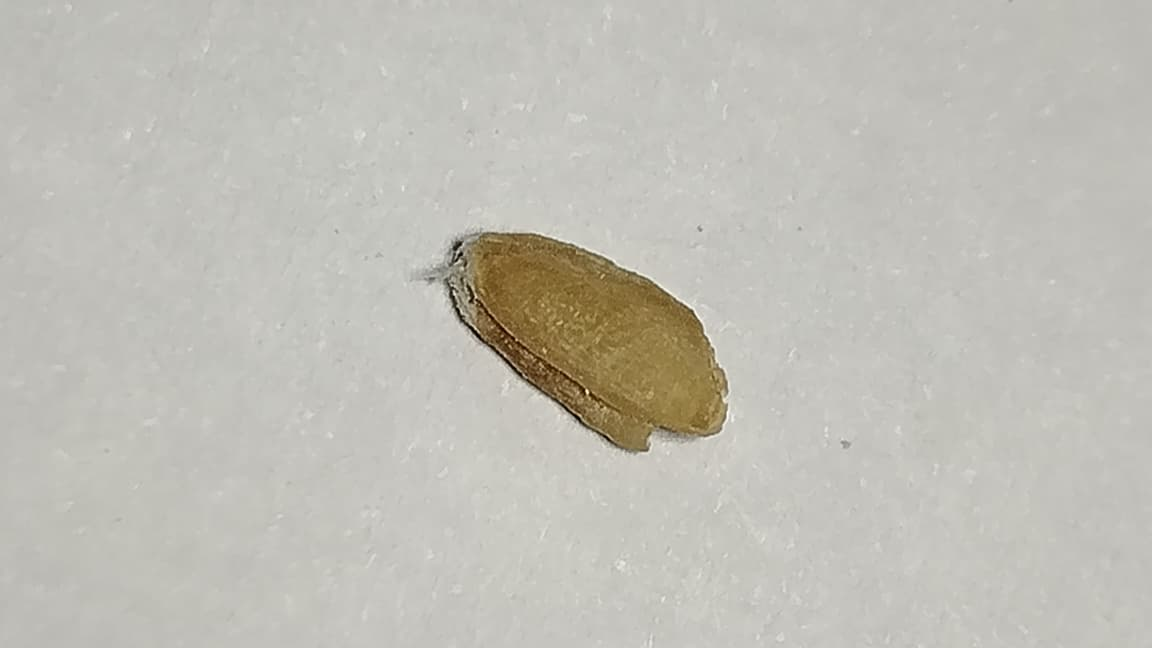damage: (451, 234, 726, 450)
insectdamage: (614, 408, 730, 467)
staindamage: (414, 268, 621, 414)
